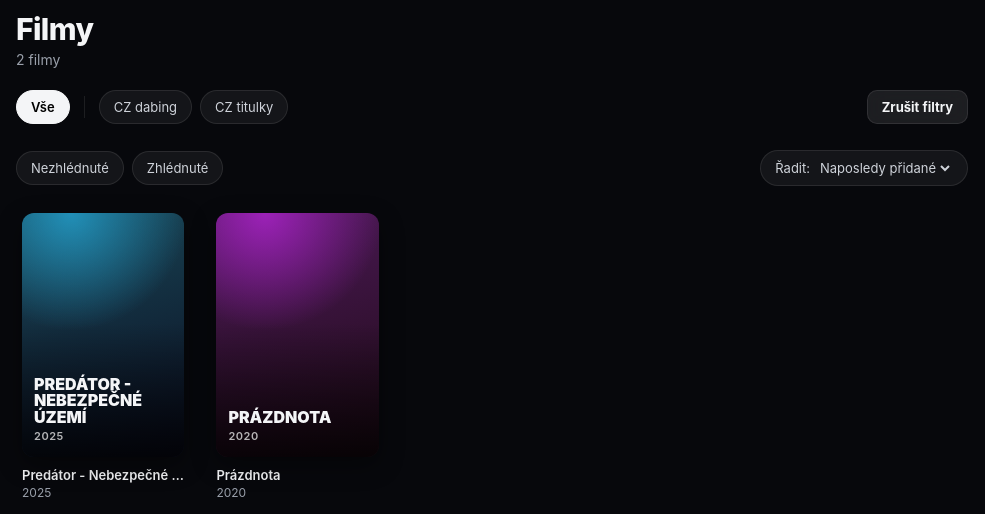
Scenario: BrowsePage › zobrazí filmy z knihovny a filtruje podle štítku
Expected: the text "2 filmy" is shown, [16,51,60,68]
Expected: the 1st text "Prázdnota" is shown, [228,407,331,427]
Click the button "CZ titulky".
click(244, 107)  # box [200,90,288,124]
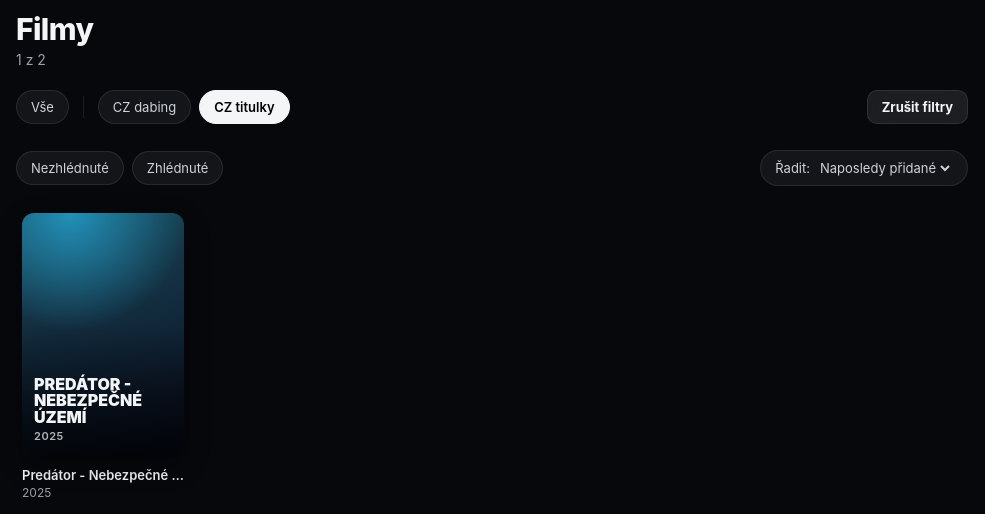
Now the text "1 z 2" is shown, box [16,51,46,68]
Now no buttons "Prázdnota" are shown
